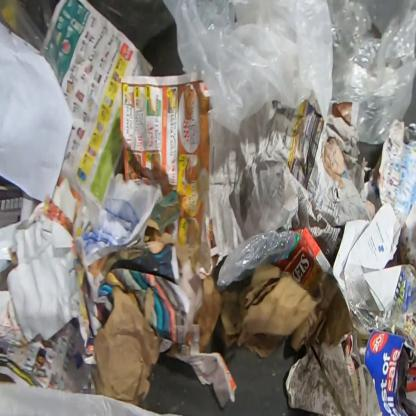cardboard: (214, 267, 354, 359), (276, 225, 333, 295)
soft_plastic: (160, 0, 334, 137), (326, 0, 416, 146), (0, 0, 66, 87), (216, 229, 303, 292), (344, 262, 415, 332)
